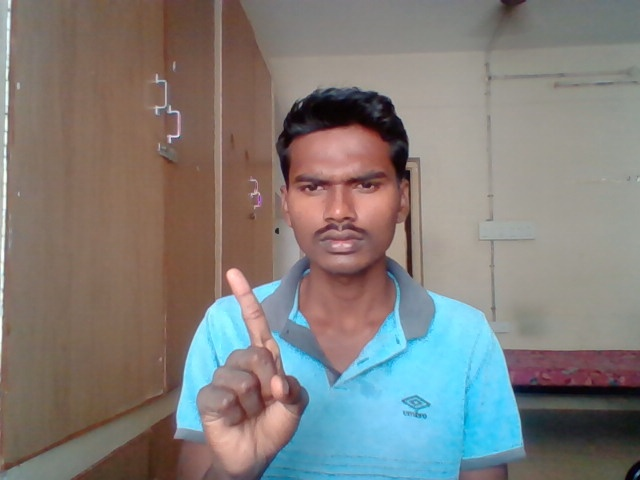No: (194, 265, 315, 478)
